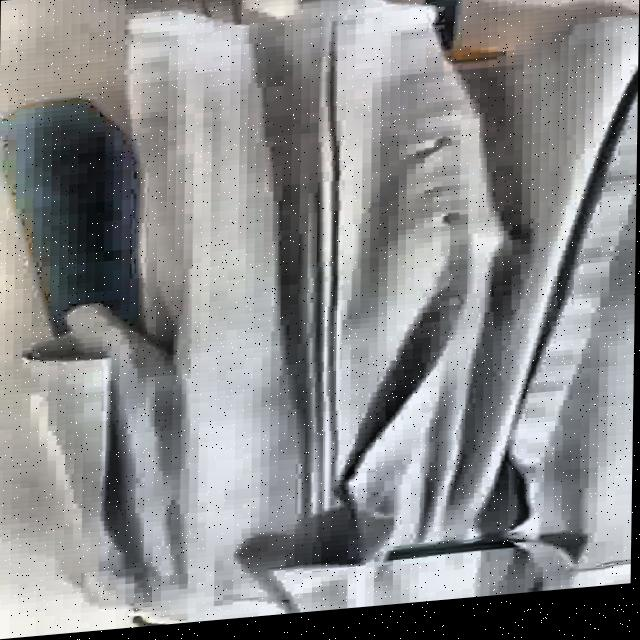clothes: (14, 0, 630, 637)
